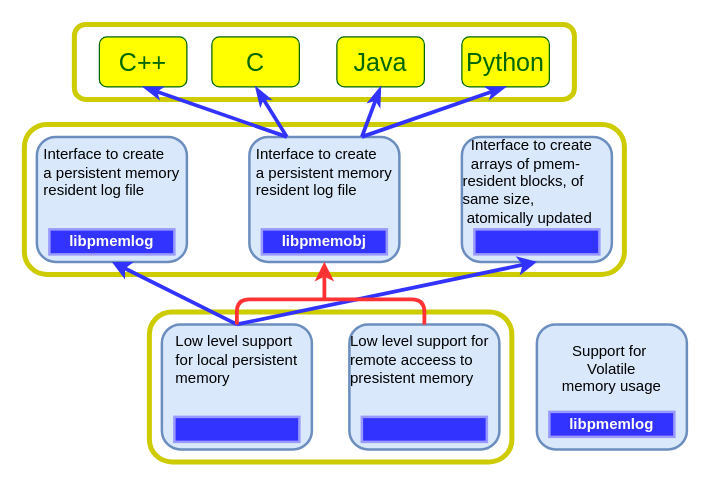
Image size: 709x485. Some labels were removed from this diagram. Here are the shapes that lost their labels. From the top down, the centre of each, then its label:
(x=536, y=241): libpmemblk
(x=236, y=428): libpmem
(x=424, y=428): librpmem
